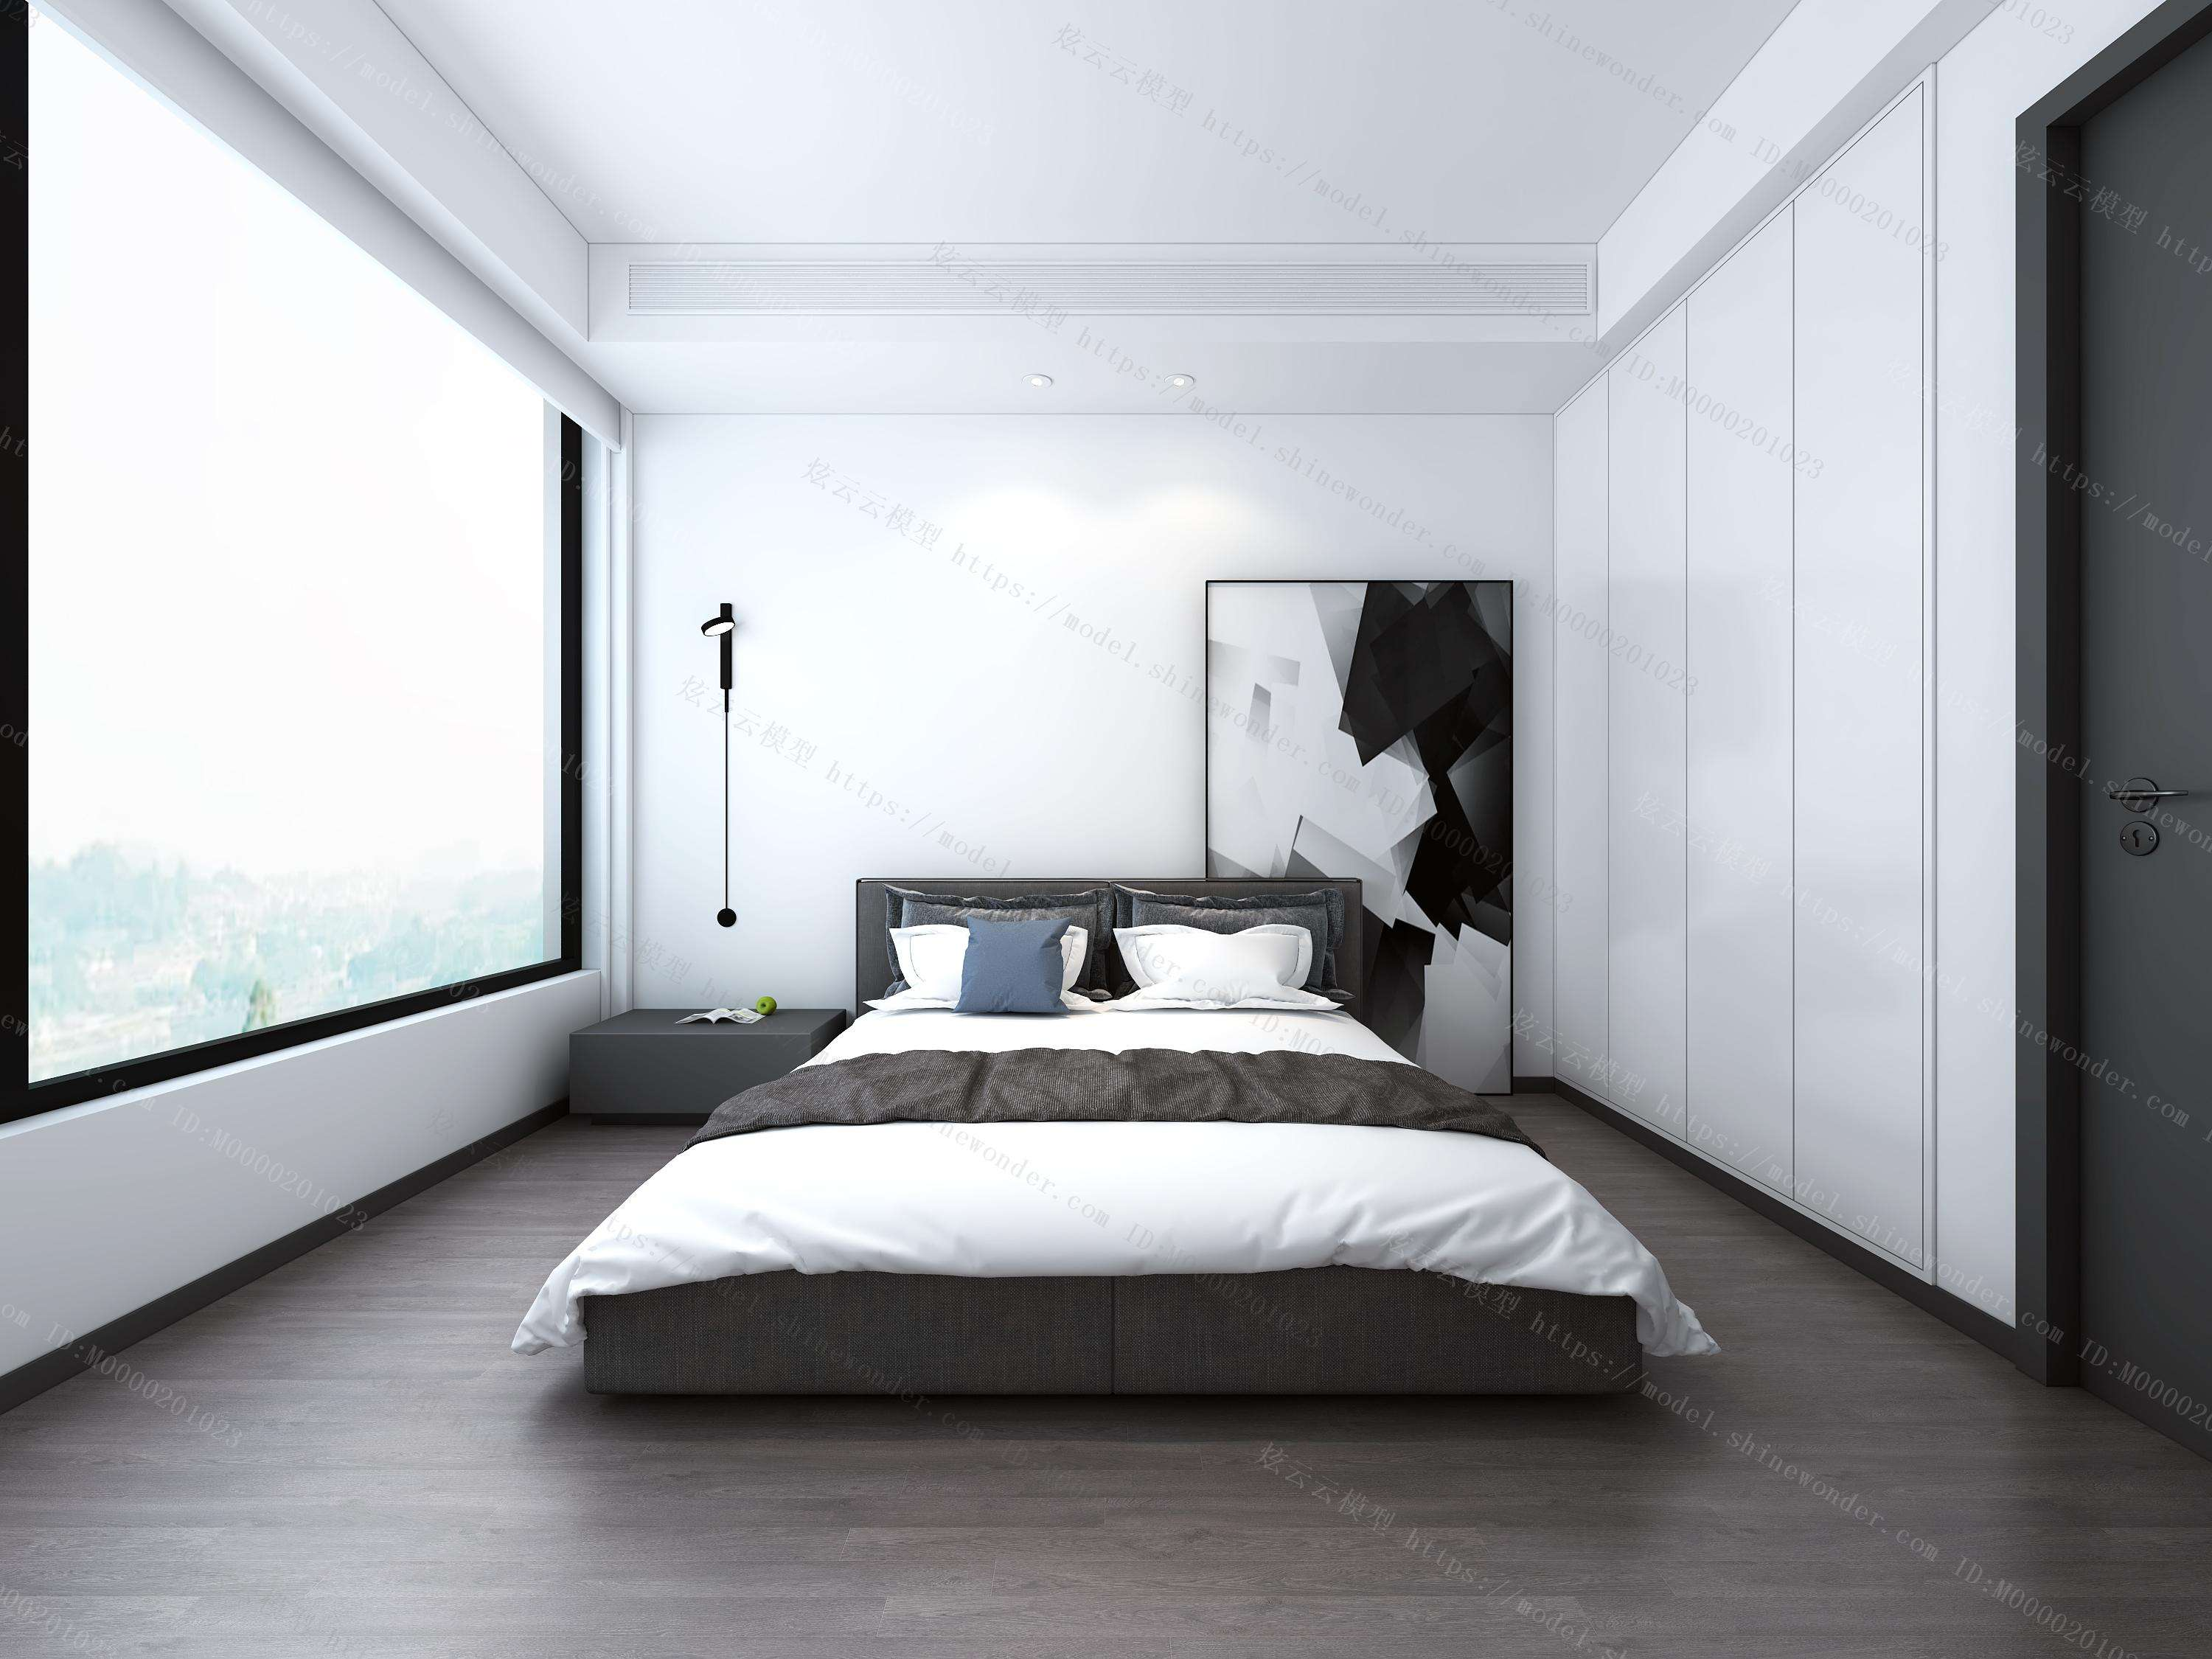床: (573, 985, 1677, 1448)
枕头: (855, 913, 1322, 1030)
灯: (700, 599, 749, 939), (1029, 364, 1075, 399), (1162, 366, 1202, 399)
